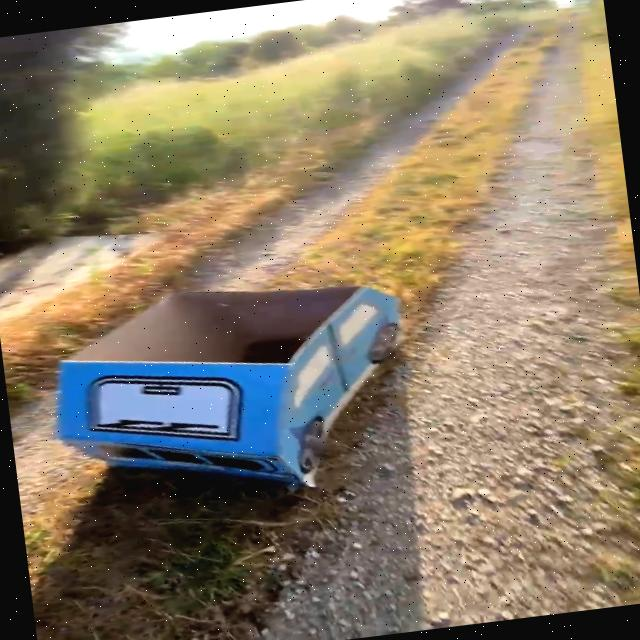blue_car: (11, 247, 437, 526)
